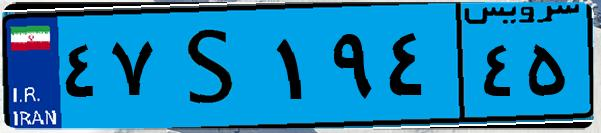1: (270, 28, 330, 110)
4: (385, 28, 445, 110), (57, 26, 110, 100), (475, 38, 525, 113)
5: (525, 38, 570, 115)
7: (110, 28, 158, 98)
9: (330, 28, 385, 110)
S: (158, 12, 270, 120)
